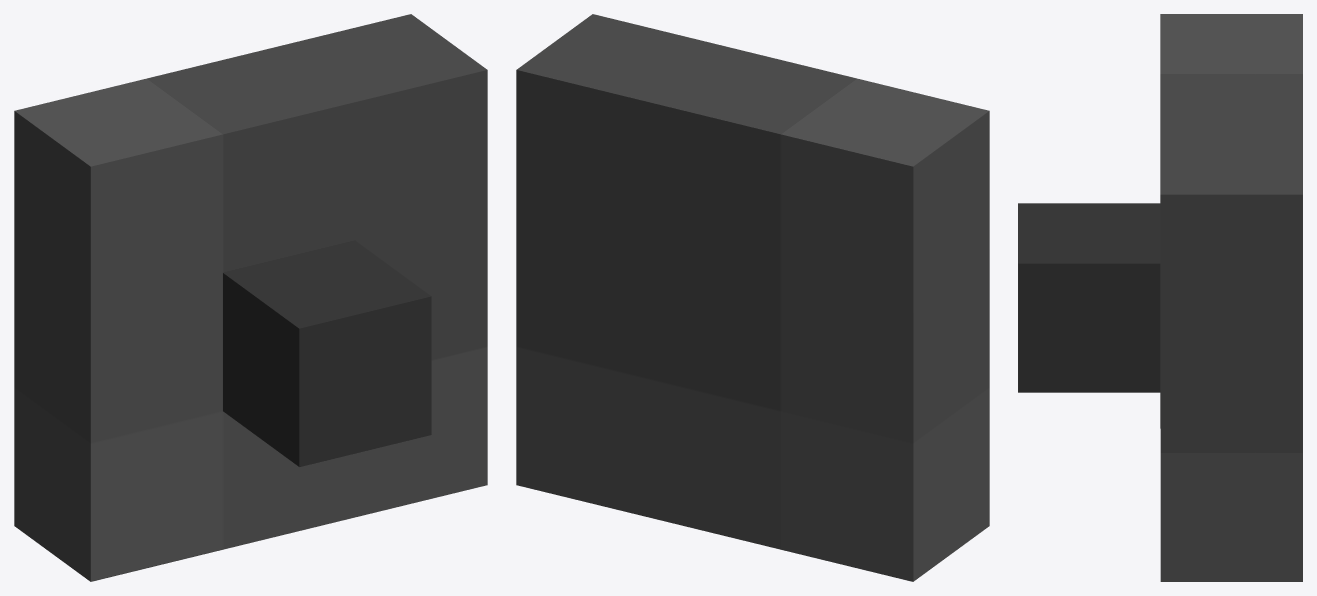
Rendered from Button_Wall_Small_Gray.glb.
The picture shows the model from 3 angles, left to right: view 1: azimuth 30°, elevation 25°; view 2: azimuth 150°, elevation 25°; view 3: azimuth 270°, elevation 25°; orthographic projection. The views are drawn at different scales.
Parts seen in each view (by area): view 1: Button_Wall_Small_Gray; view 2: Button_Wall_Small_Gray; view 3: Button_Wall_Small_Gray.
Part boxes in pixels (<box>): Button_Wall_Small_Gray: <box>14,14,487,581</box>; Button_Wall_Small_Gray: <box>516,14,989,581</box>; Button_Wall_Small_Gray: <box>1018,14,1302,581</box>.
Size of the model in its own units: 0.3 by 0.3 by 0.2.
1 material, 1 textured.
